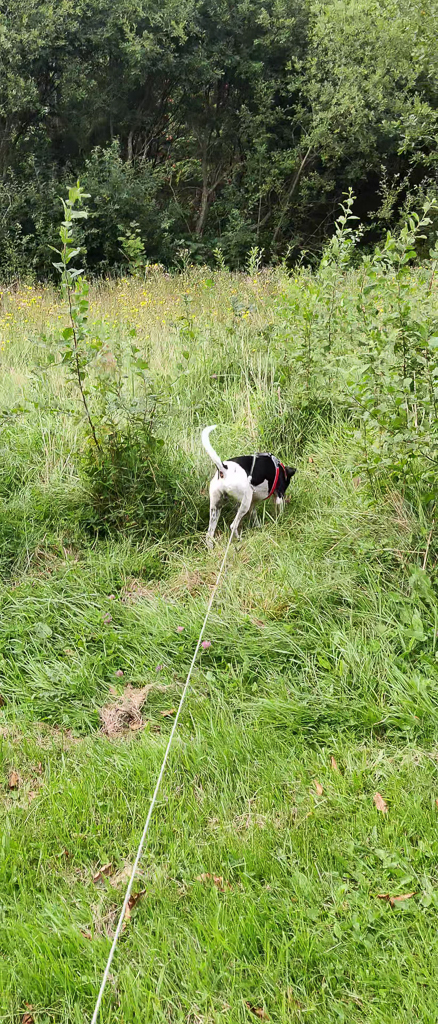Dog: (195, 418, 307, 546)
